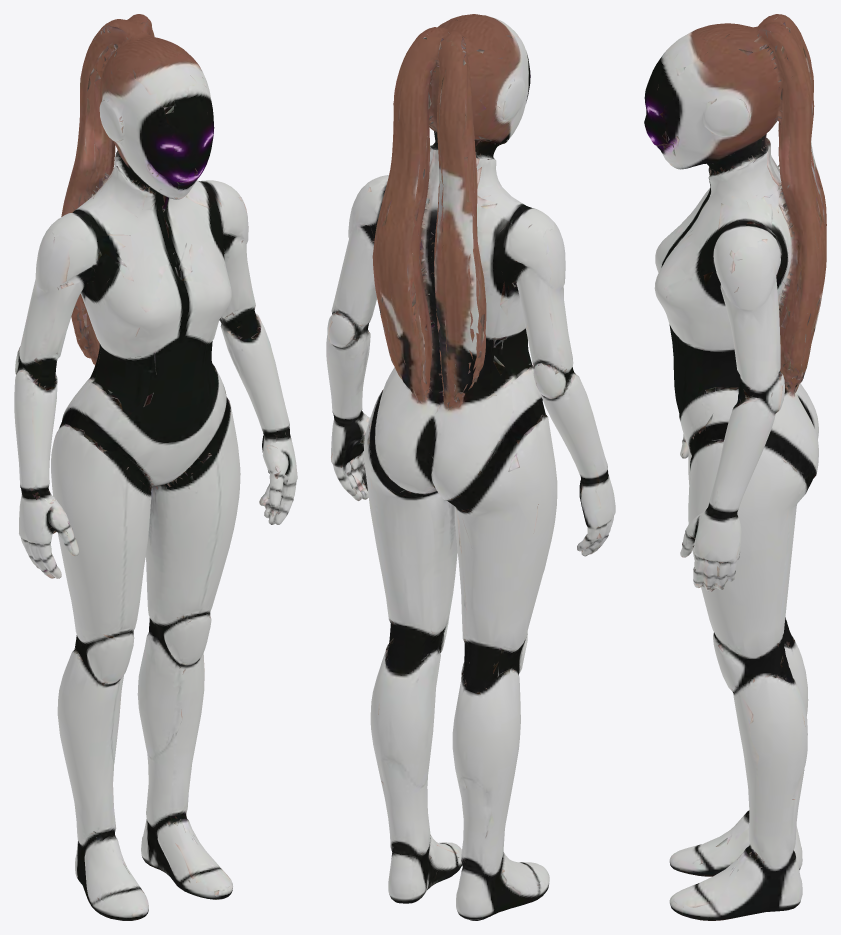
File: robot-b.mobile.glb
3 renders of one model, left to right at view 1: azimuth 30°, elevation 25°; view 2: azimuth 150°, elevation 25°; view 3: azimuth 270°, elevation 25°, orthographic. The views are drawn at different scales.
Parts seen in each view (by area): view 1: Mesh_0; view 2: Mesh_0; view 3: Mesh_0.
Boxes of the visible parts, bbox=[...] form: Mesh_0: bbox=[14, 14, 297, 920]; Mesh_0: bbox=[326, 14, 615, 920]; Mesh_0: bbox=[644, 14, 826, 920].
Bounding box in the file's own units: 0.6229 × 1.9 × 0.3608.
Materials: 1 (1 with a texture image).
